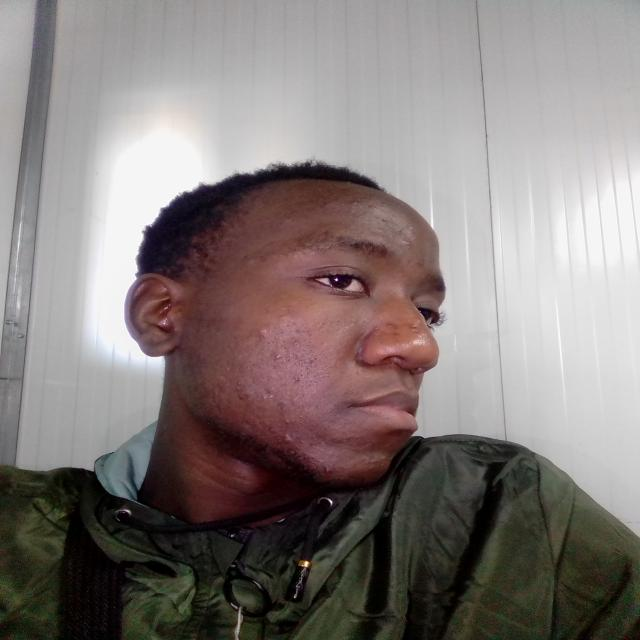Acne: (277, 214, 292, 227), (414, 255, 429, 268), (237, 390, 255, 400), (274, 399, 290, 410), (260, 387, 276, 397), (398, 226, 410, 237), (282, 432, 294, 443), (318, 200, 334, 208), (399, 239, 411, 249), (257, 327, 267, 339), (408, 322, 418, 332), (265, 426, 279, 433), (290, 376, 302, 384), (321, 466, 333, 474), (364, 458, 376, 466), (244, 258, 259, 264), (273, 352, 285, 359), (384, 322, 398, 328), (260, 253, 268, 263), (378, 217, 389, 224), (366, 204, 378, 210), (293, 340, 301, 348), (282, 419, 292, 425), (349, 200, 362, 204), (409, 224, 416, 230), (381, 454, 388, 460), (393, 332, 401, 337)
Englarged-Pores: (267, 320, 332, 387)
